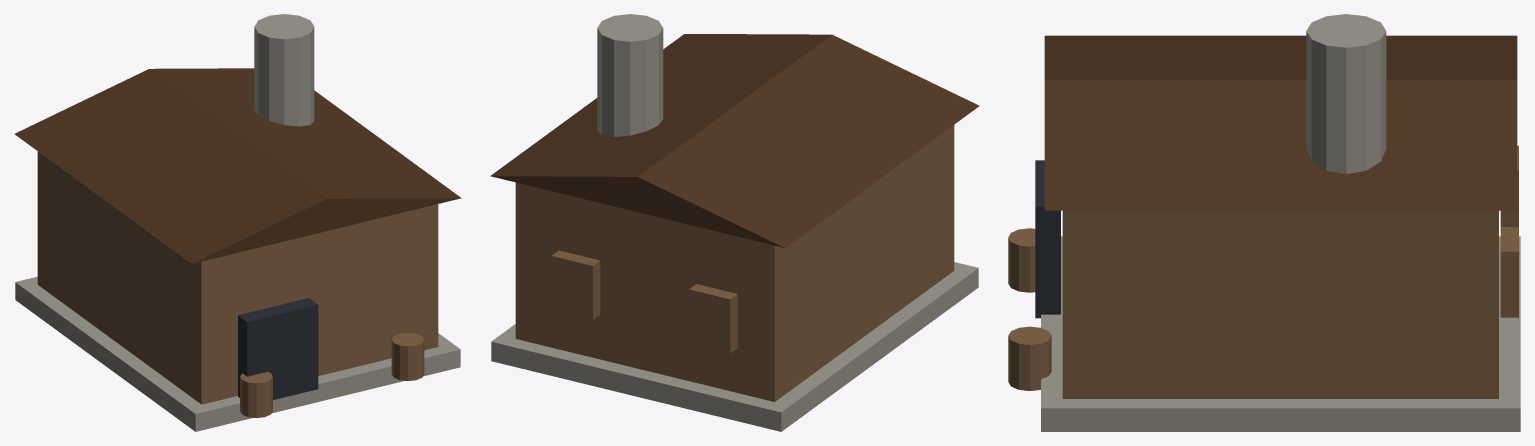
Rendered from bld_industrial_a01.glb.
3 views of the same model, side by side, from view 1: azimuth 30°, elevation 25°; view 2: azimuth 150°, elevation 25°; view 3: azimuth 270°, elevation 25° (orthographic). The views are drawn at different scales.
Visible parts, largest first — view 1: body; view 2: body; view 3: body.
Boxes of the visible parts, x1=… form: body: x1=14, y1=14, x2=461, y2=431; body: x1=490, y1=14, x2=979, y2=431; body: x1=1008, y1=14, x2=1520, y2=431.
Size of what is drawn, in the model's own units: 5.7 by 5.48 by 7.05.
